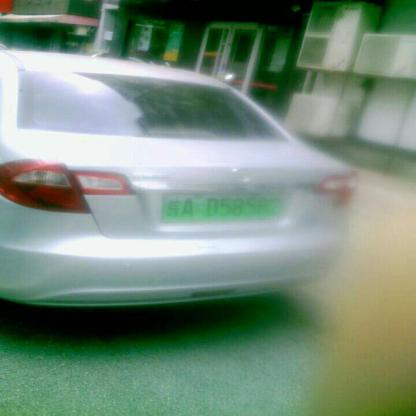lp: (161, 194, 279, 223)
